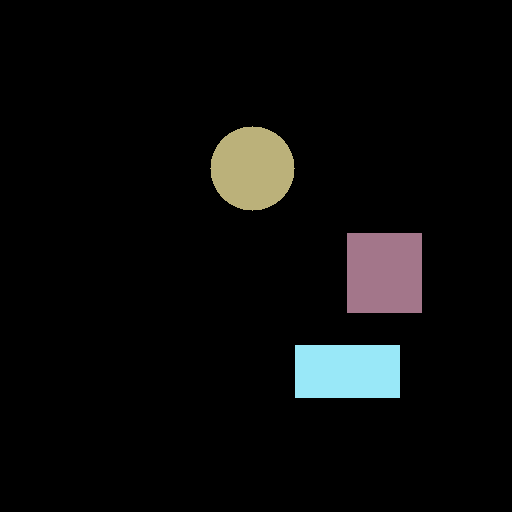circle: (210, 126, 294, 210)
rectangle: (295, 345, 399, 397)
square: (347, 233, 421, 312)
